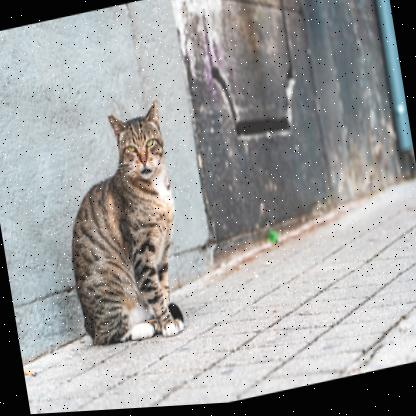cat: (49, 98, 194, 351)
